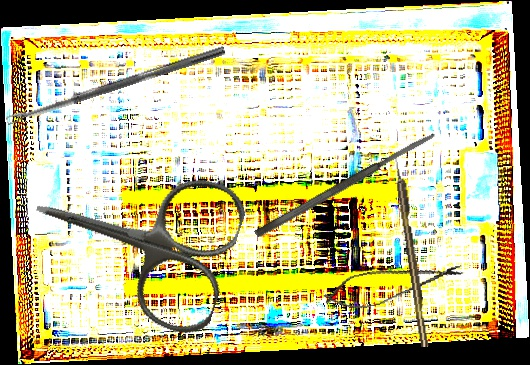Hook Surgical: (392, 154, 430, 348)
Iris Scissors: (13, 131, 252, 343)
Micro Scissor: (318, 251, 468, 317)
Spatula Surgical: (253, 129, 438, 240)
Surgical Spoon: (5, 44, 226, 126)
